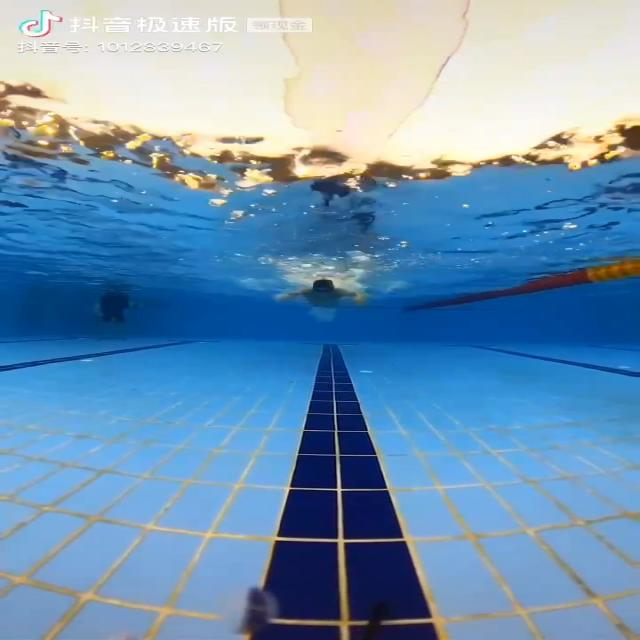Swimming: (272, 279, 378, 313)
